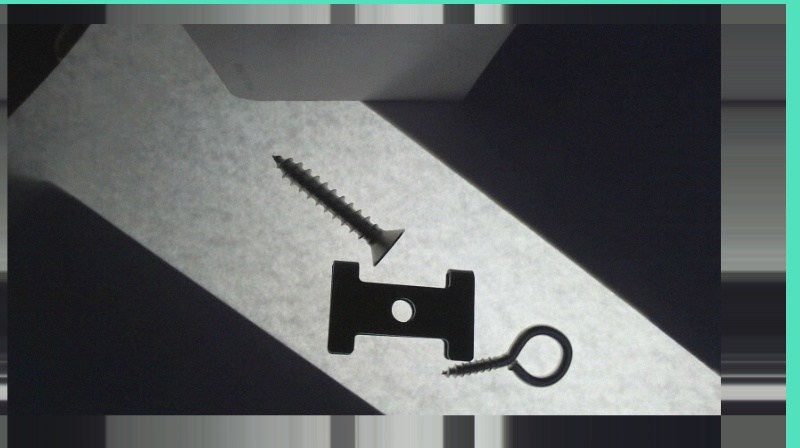O001: (439, 323, 572, 388)
O002: (323, 260, 476, 359)
S001: (270, 150, 404, 266)
